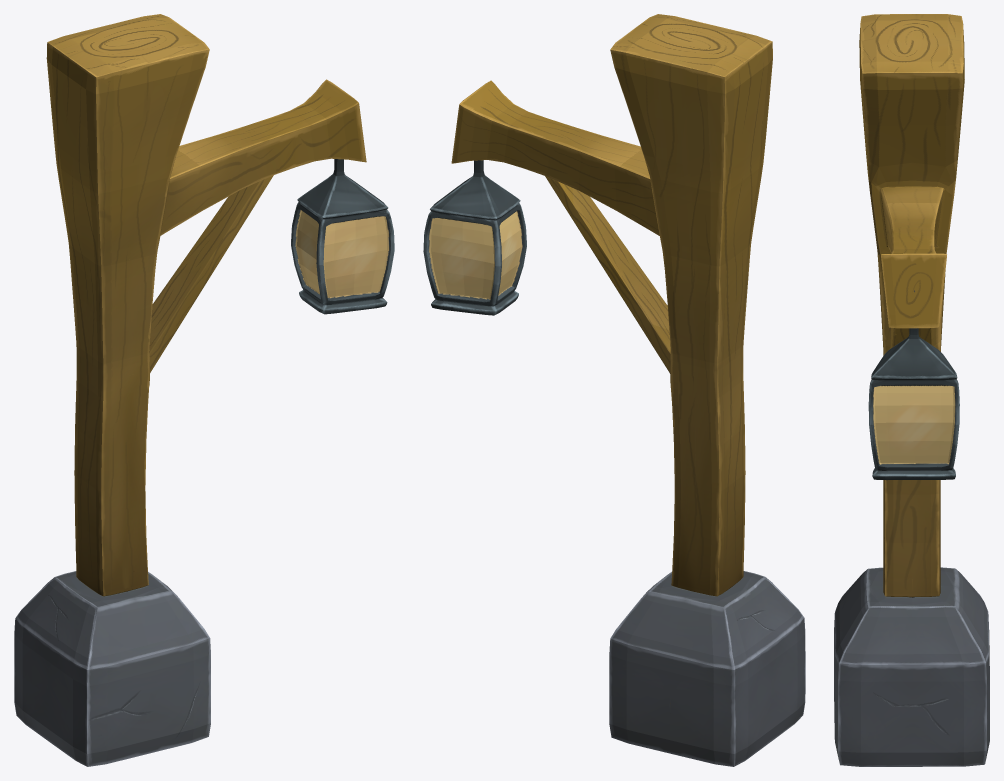
Rendered from poste_lago.obj.
3 renders of one model, left to right at view 1: azimuth 30°, elevation 25°; view 2: azimuth 150°, elevation 25°; view 3: azimuth 270°, elevation 25°, orthographic. The views are drawn at different scales.
Visible parts, largest first — view 1: lampara; view 2: lampara; view 3: lampara.
Boxes of the visible parts, bbox=[...] form: lampara: bbox=[14, 14, 394, 766]; lampara: bbox=[423, 14, 805, 766]; lampara: bbox=[834, 14, 989, 766].
Bounding box in the file's own units: 5.05 × 10.09 × 2.02.
1 material, 1 textured.
